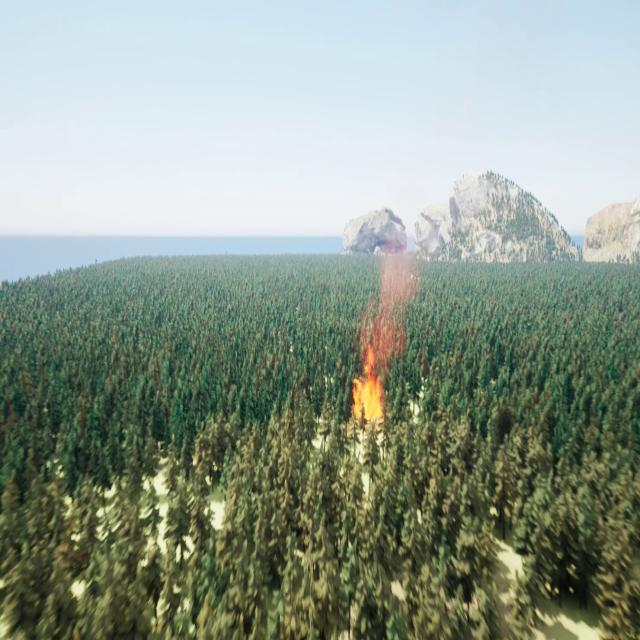fire: (351, 346, 387, 428)
smoke: (357, 226, 422, 377)
